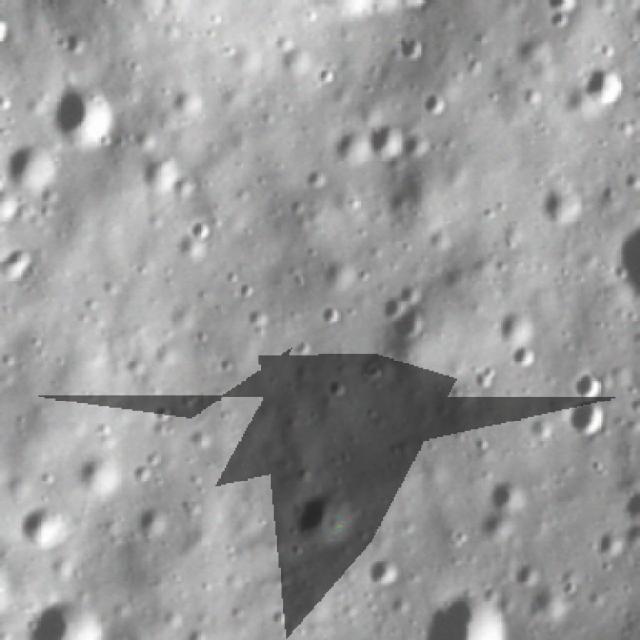crater: (46, 72, 126, 154), (416, 577, 518, 640), (371, 272, 442, 356), (289, 482, 360, 558), (23, 583, 109, 640), (3, 134, 63, 198), (573, 60, 629, 117), (17, 498, 74, 554), (76, 444, 132, 501), (536, 180, 590, 228), (489, 304, 545, 350), (523, 580, 577, 626), (562, 396, 612, 444), (362, 116, 410, 164), (470, 504, 519, 548), (359, 548, 408, 590), (564, 362, 614, 402), (482, 473, 528, 516), (532, 0, 582, 31), (171, 86, 207, 125), (418, 88, 457, 123), (393, 29, 430, 65), (510, 337, 544, 374), (510, 555, 548, 588), (180, 212, 218, 243), (596, 522, 626, 560), (378, 0, 436, 18)
